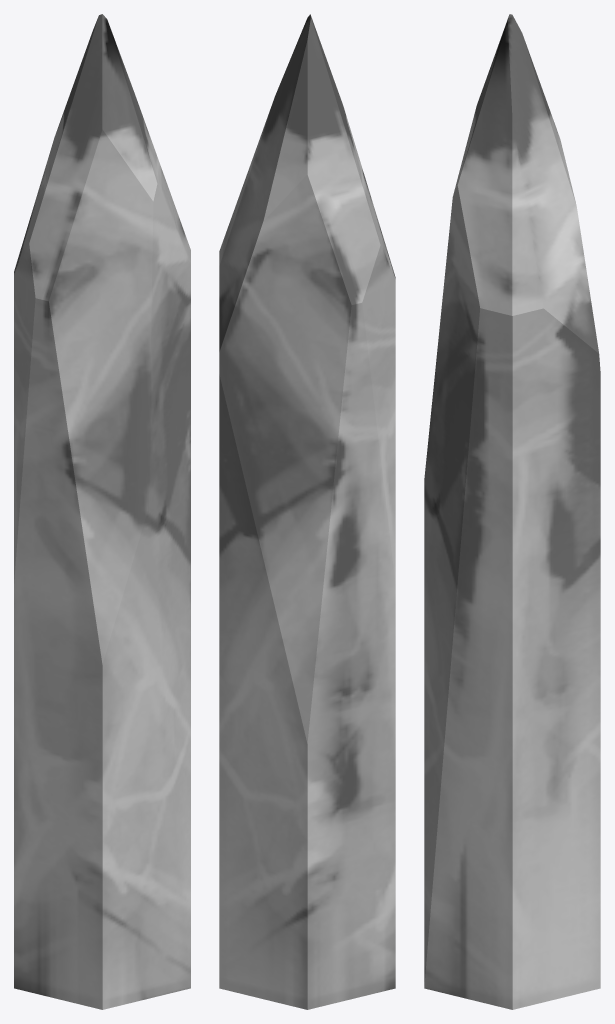
The model's file is Crystal04.fbx.
The picture shows the model from 3 angles, left to right: view 1: azimuth 30°, elevation 25°; view 2: azimuth 150°, elevation 25°; view 3: azimuth 270°, elevation 25°; orthographic projection.
Visible parts, largest first — view 1: Crystal04; view 2: Crystal04; view 3: Crystal04.
Part boxes in pixels (x1,y1,x2,y2): Crystal04: (14,14,190,1009); Crystal04: (219,14,395,1009); Crystal04: (424,14,600,1009).
Bounding box in the file's own units: 0.4812 × 2.48 × 0.4167.
